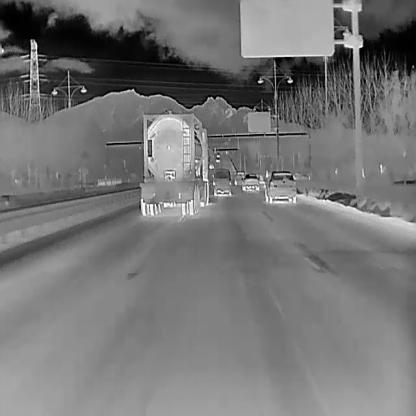car: (139, 112, 208, 215), (263, 170, 296, 203), (210, 167, 232, 196), (240, 172, 258, 190), (233, 170, 244, 185), (214, 156, 220, 161), (215, 152, 220, 157)
